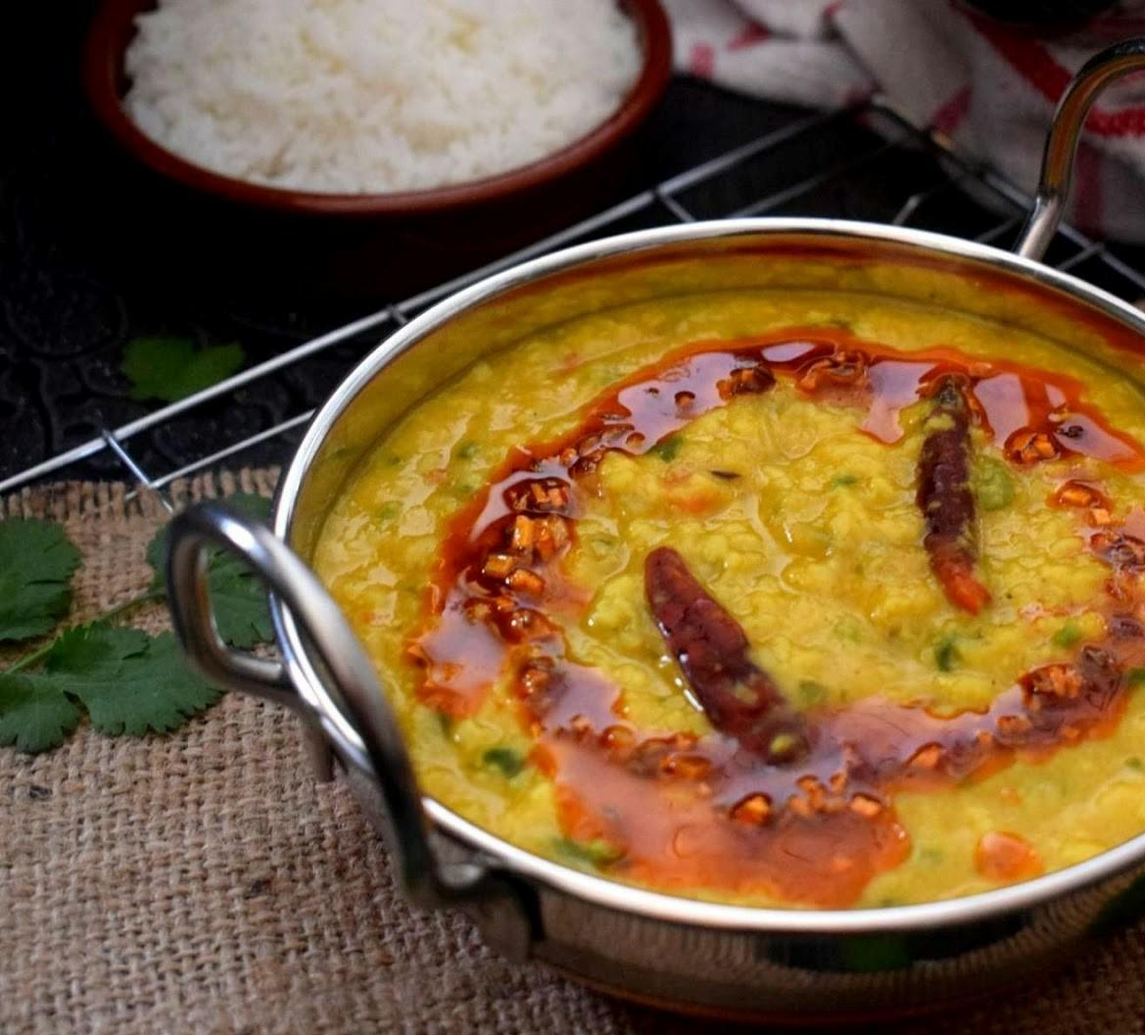Dal: (314, 286, 1145, 908)
WhiteRice: (120, 0, 641, 195)
